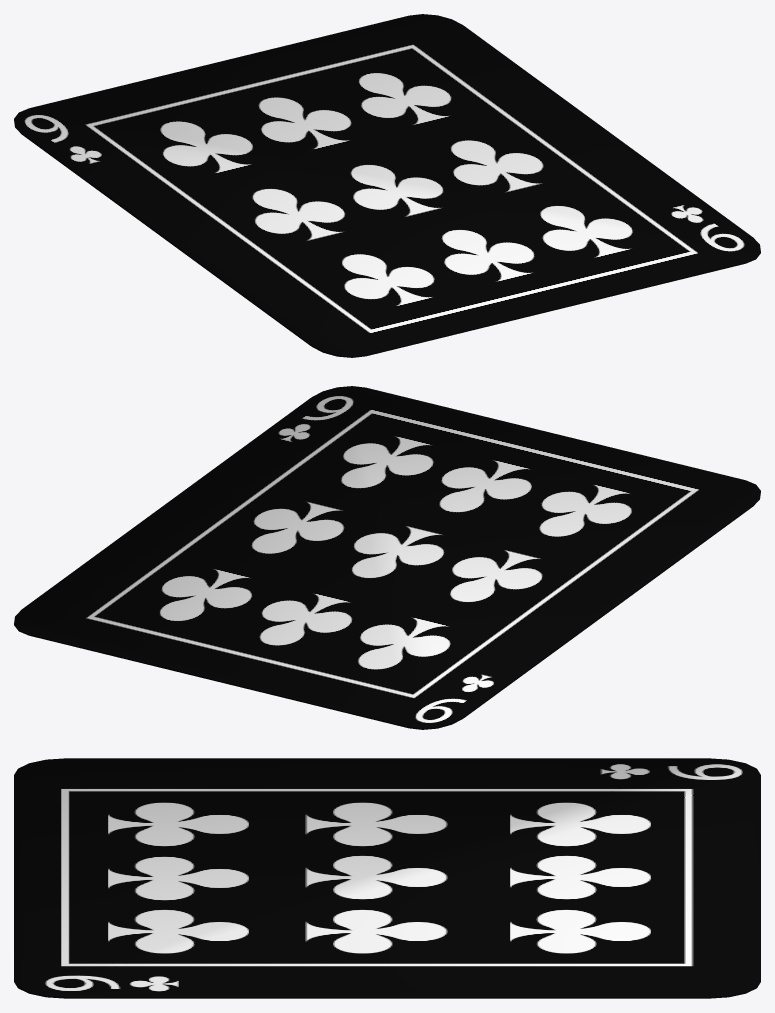
The model's file is Neuf_de_trèfle.gltf.
3 views of the same model, one above another, from view 1: azimuth 30°, elevation 25°; view 2: azimuth 150°, elevation 25°; view 3: azimuth 270°, elevation 25° (orthographic). The views are drawn at different scales.
Visible parts, largest first — view 1: Plane.001; view 2: Plane.001; view 3: Plane.001.
Boxes of the visible parts, x1=… form: Plane.001: x1=14, y1=14, x2=760, y2=357; Plane.001: x1=14, y1=386, x2=760, y2=729; Plane.001: x1=14, y1=758, x2=760, y2=998.
Size of the model in its own units: 3.59 by 0.01 by 4.74.
Materials: 2 (2 with a texture image).
